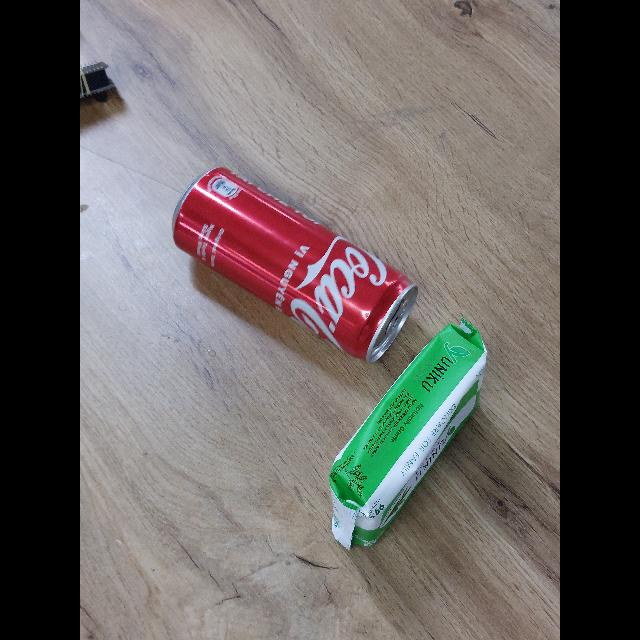coca_cola: (172, 168, 419, 364)
khan_giay: (327, 318, 487, 552)
